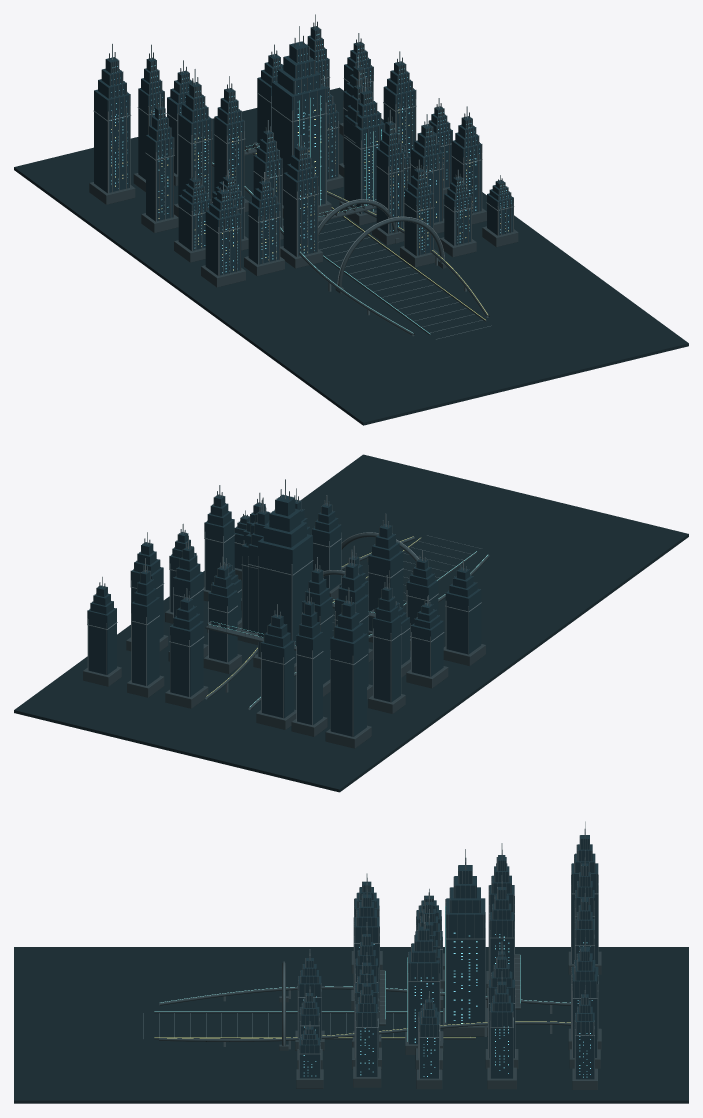
File: machine-city-landing.glb
The picture shows the model from 3 angles, top to bottom: view 1: azimuth 30°, elevation 25°; view 2: azimuth 150°, elevation 25°; view 3: azimuth 270°, elevation 25°; orthographic projection. The views are drawn at different scales.
Parts seen in each view (by area): view 1: City_Road, City_DarkGlass, City_Facade, City_Graphite, City_EdgeMetal, City_WindowBlue, GraphiteLine.002, GraphiteLine; view 2: City_Road, City_DarkGlass, City_Graphite, City_EdgeMetal, City_Facade; view 3: City_Road, City_DarkGlass, City_Facade, City_Graphite, City_EdgeMetal, GraphiteLine.001, GraphiteLine, City_WindowBlue.
Boxes of the visible parts, x1=… form: City_Road: x1=14, y1=87, x2=688, y2=425; City_DarkGlass: x1=94, y1=26, x2=513, y2=275; City_Facade: x1=108, y1=21, x2=513, y2=315; City_Graphite: x1=89, y1=123, x2=518, y2=335; City_EdgeMetal: x1=93, y1=14, x2=514, y2=339; City_WindowBlue: x1=111, y1=34, x2=511, y2=272; GraphiteLine.002: x1=338, y1=217, x2=443, y2=287; GraphiteLine: x1=212, y1=162, x2=414, y2=336; City_Road: x1=14, y1=454, x2=688, y2=792; City_DarkGlass: x1=87, y1=494, x2=481, y2=736; City_Graphite: x1=83, y1=538, x2=485, y2=748; City_EdgeMetal: x1=87, y1=479, x2=481, y2=736; City_Facade: x1=87, y1=489, x2=480, y2=694; City_Road: x1=14, y1=947, x2=688, y2=1103; City_DarkGlass: x1=298, y1=835, x2=598, y2=1079; City_Facade: x1=223, y1=829, x2=596, y2=1078; City_Graphite: x1=154, y1=951, x2=601, y2=1089; City_EdgeMetal: x1=143, y1=821, x2=598, y2=1078; GraphiteLine.001: x1=159, y1=1021, x2=570, y2=1041; GraphiteLine: x1=159, y1=986, x2=570, y2=1005; City_WindowBlue: x1=303, y1=932, x2=592, y2=1077.
Bounding box in the file's own units: 70 × 38.42 × 130.
